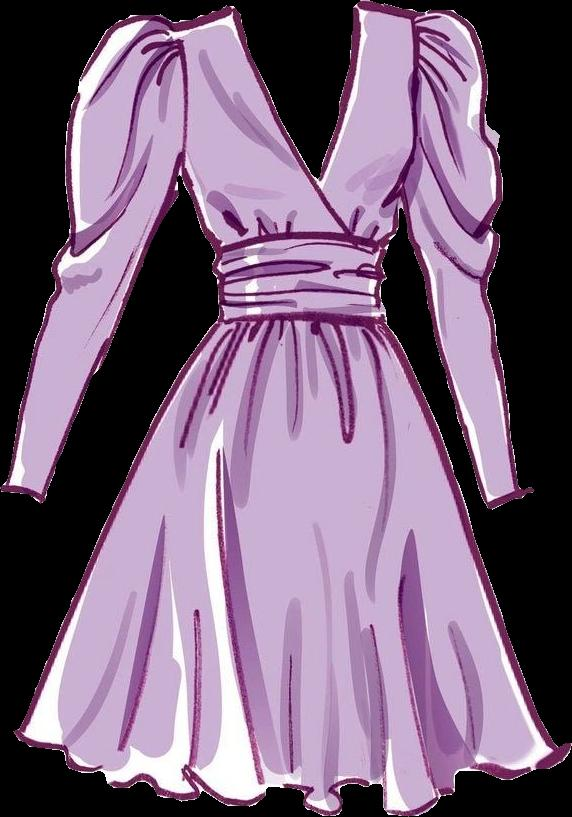Bodice: (171, 1, 419, 326)
Hemline: (13, 731, 571, 816)
Neckline: (229, 0, 367, 189), (210, 226, 391, 253)
Skirt: (15, 320, 571, 816)
Sleeve: (0, 11, 217, 501), (402, 10, 523, 509)
Sleeveline: (404, 12, 427, 194), (170, 17, 189, 186)
Waistline: (212, 312, 390, 330)
